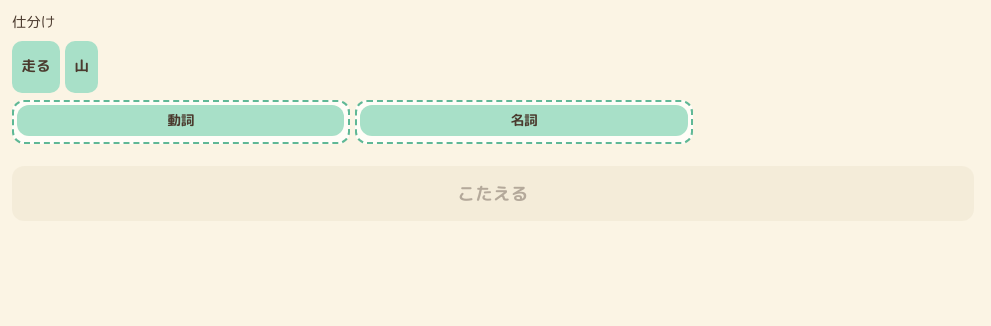
Test: 仕分け: ドラッグ&ドロップ › 取りこぼしの安全策(カードがカーソルに「引っかかって」動かなくなるのを防ぐ) › 前のドラッグの「離した」が届かないまま、次のカードを押しても、前のゴーストが残らず、次のドラッグができる
Press the mouse on the button "走る" at (36, 67), box [12,41,60,93]
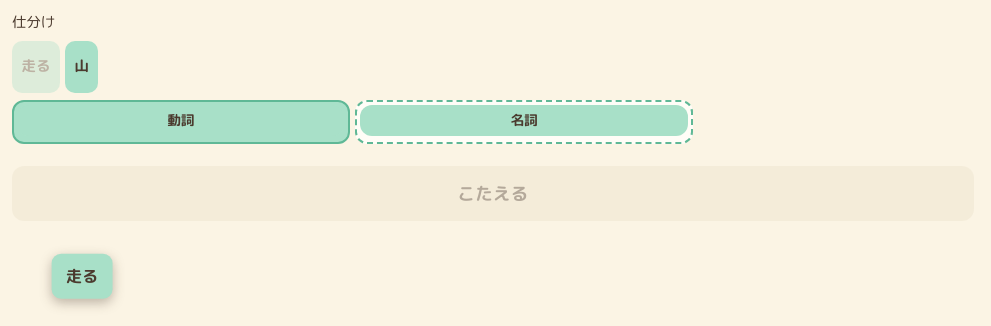
Press the mouse on the button "山" at (82, 67), box [65,41,98,93]
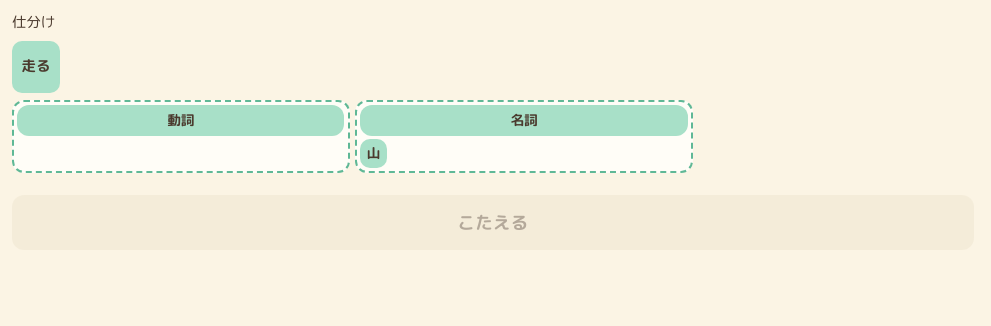
Now the element with class "sorting-ghost" is gone
